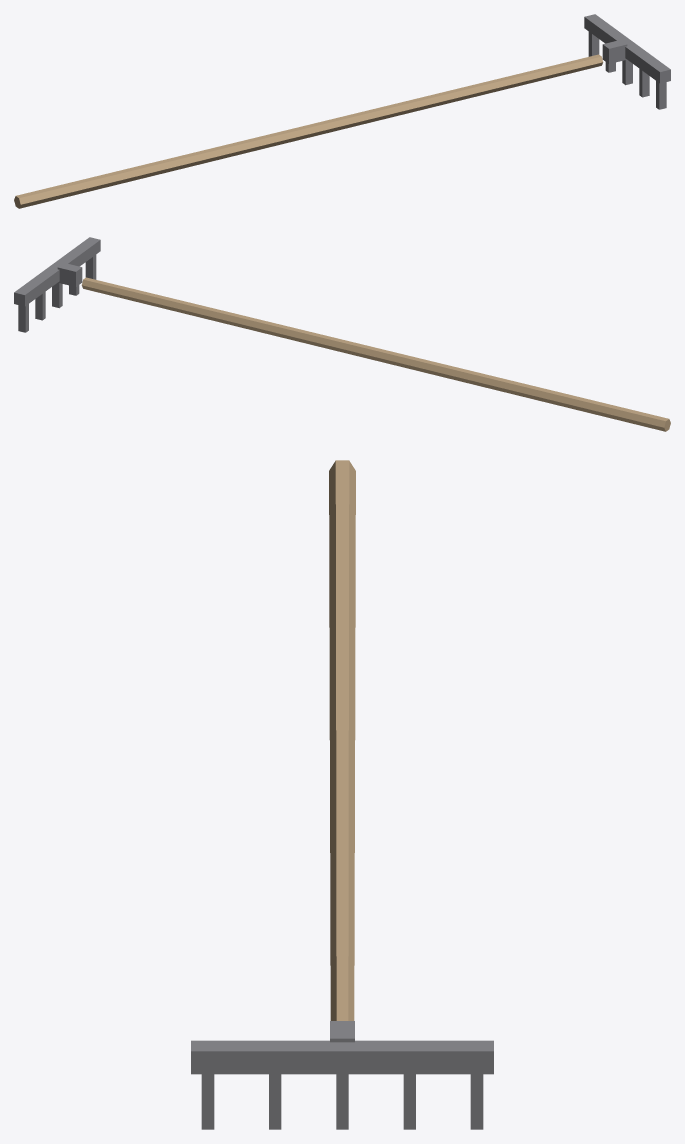
Rendered from prop-charcoal-rake.fbx.
3 views of the same model, one above another, from view 1: azimuth 30°, elevation 25°; view 2: azimuth 150°, elevation 25°; view 3: azimuth 270°, elevation 25° (orthographic). The views are drawn at different scales.
Visible parts, largest first — view 1: prop-charcoal-rake; view 2: prop-charcoal-rake; view 3: prop-charcoal-rake.
Part boxes in pixels (box(x1,y1,x2,y2)): prop-charcoal-rake: box(14, 14, 670, 208); prop-charcoal-rake: box(14, 237, 670, 431); prop-charcoal-rake: box(191, 460, 493, 1129).
Size of the model in its own units: 169 by 11 by 36.
